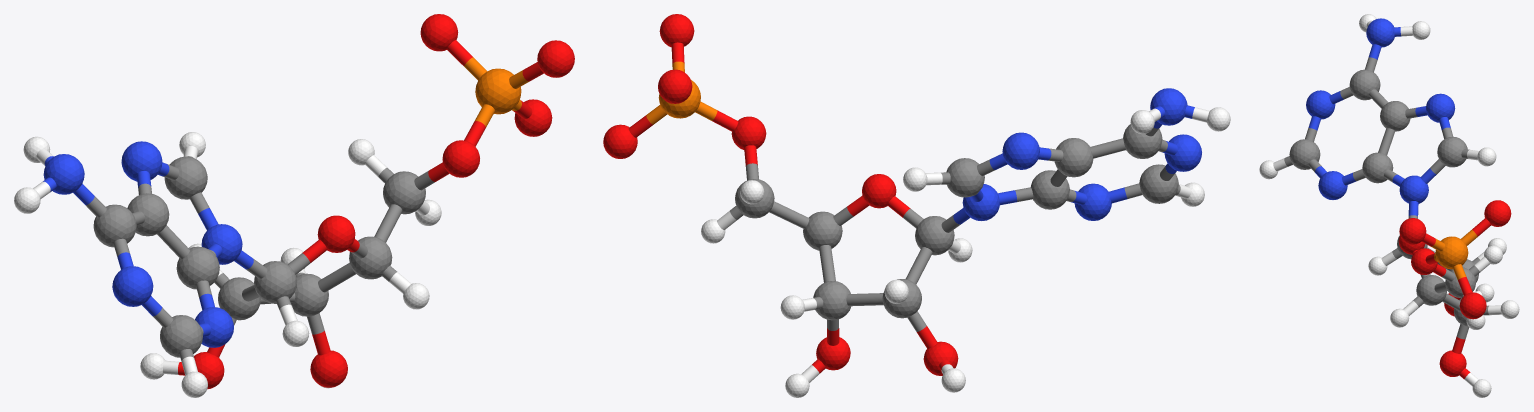
File: nucleotide.gltf
3 renders of one model, left to right at view 1: azimuth 30°, elevation 25°; view 2: azimuth 150°, elevation 25°; view 3: azimuth 270°, elevation 25°, orthographic. The views are drawn at different scales.
Bounding box in the file's own units: 117 × 66.95 × 60.51.
